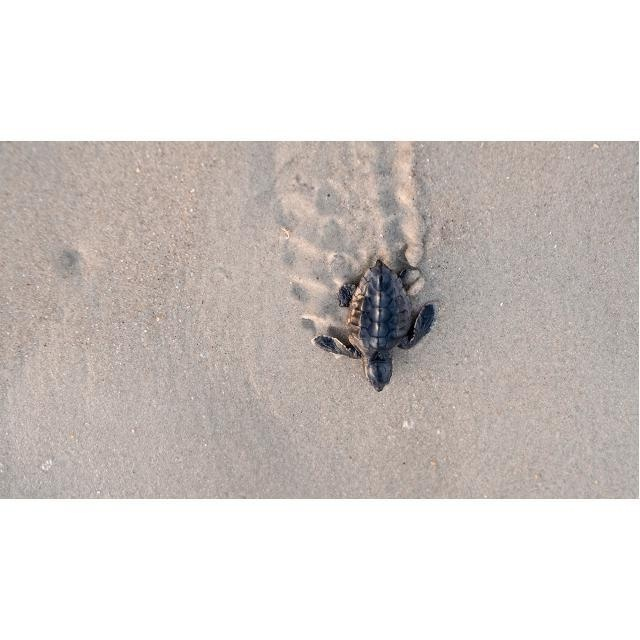turtle: (313, 260, 434, 392)
